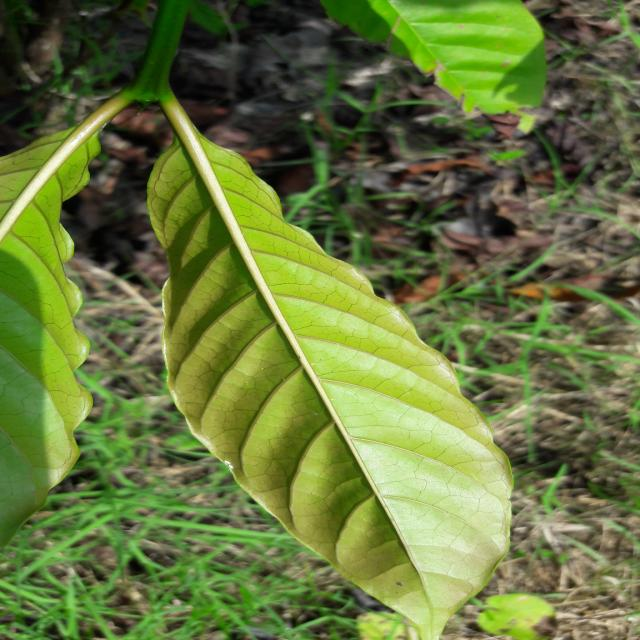Sanas: (144, 84, 514, 640)
